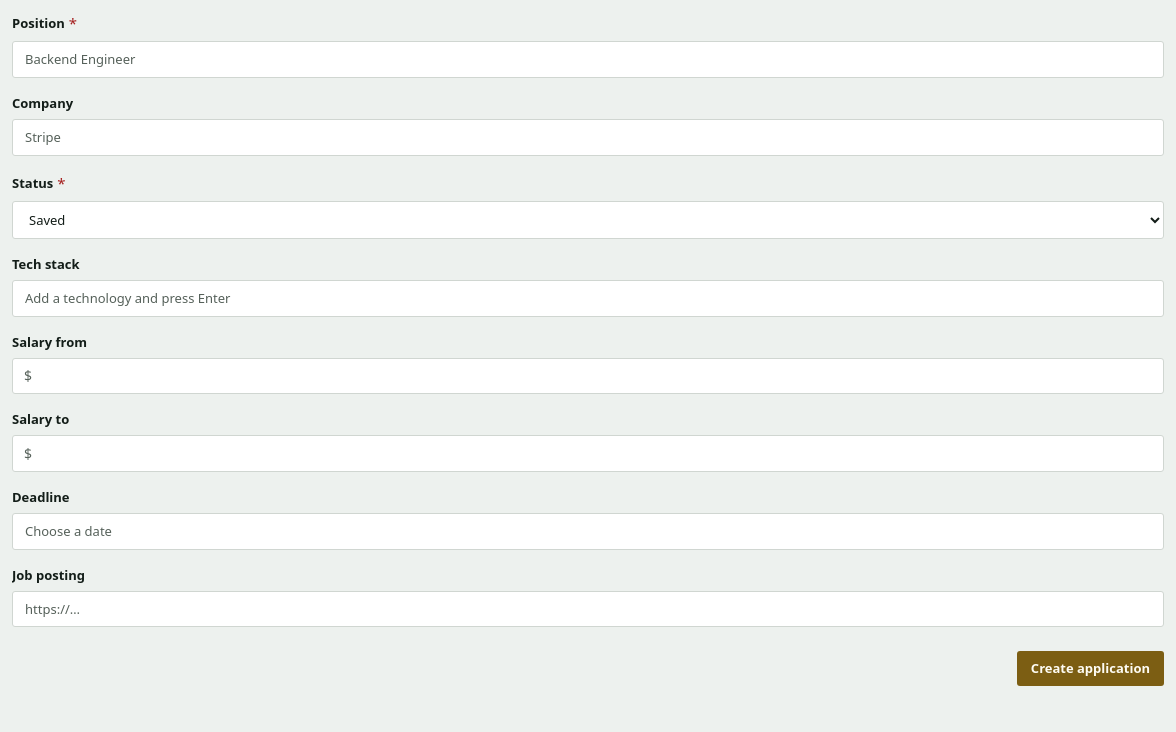
Test: accessibility › the form reports its errors accessibly
Click the button "Create application" at {"x": 1090, "y": 669}, box [1017,652,1164,686]
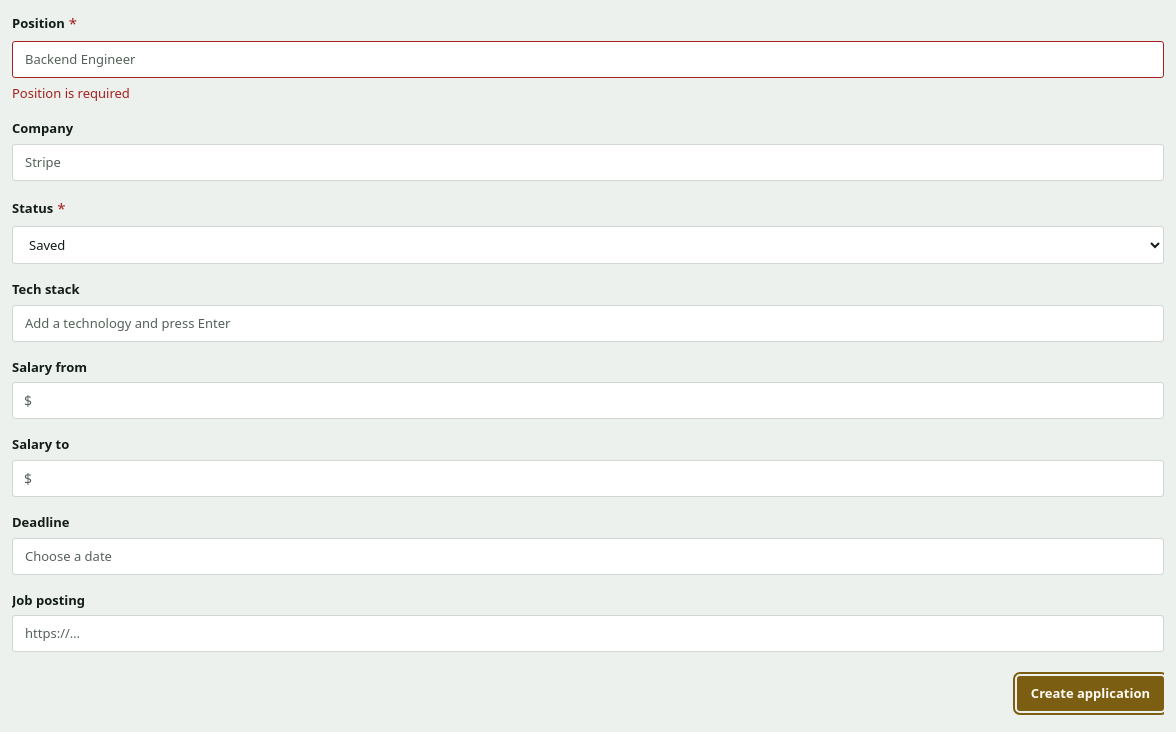
Expected: the text "Position is required" is shown, [12,84,130,102]
